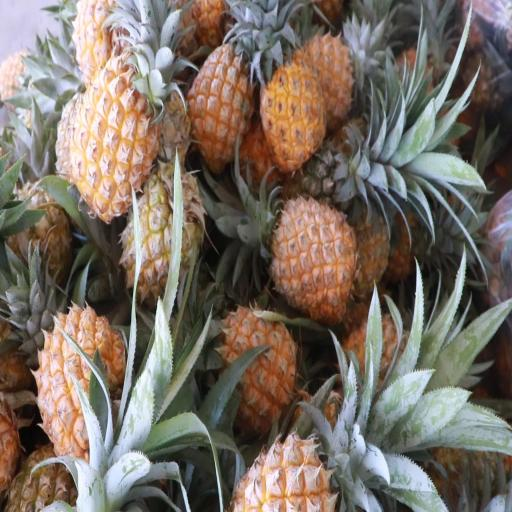------------------------------: (123, 172, 200, 302)
Pineapple - v8 v1: (73, 59, 160, 217), (43, 308, 127, 462), (270, 199, 355, 313), (220, 310, 302, 421), (186, 44, 255, 167), (235, 432, 340, 512), (261, 62, 327, 171)
